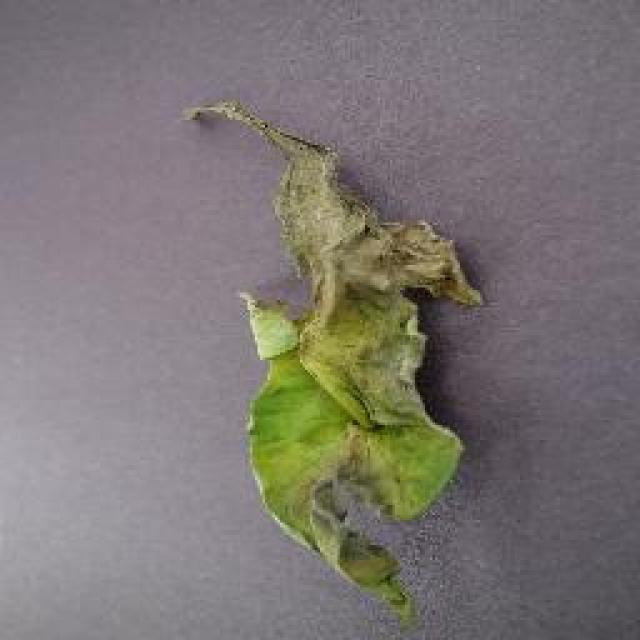Tomato late blight leaf: (188, 93, 492, 620)
